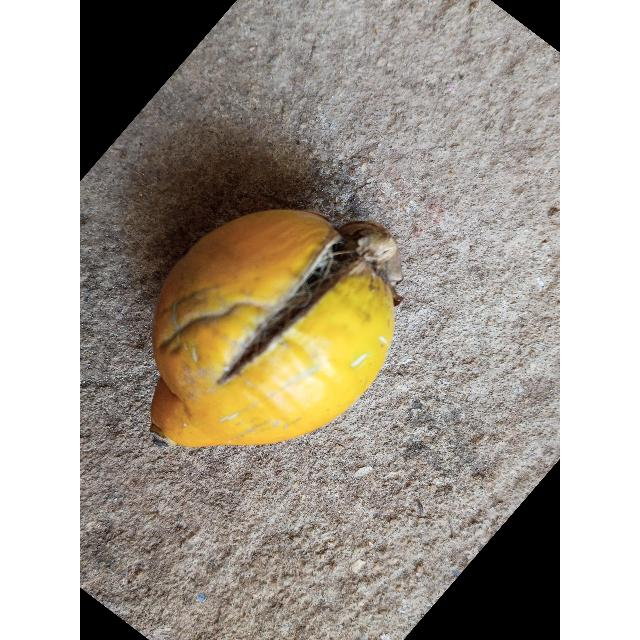damaged: (150, 210, 402, 447)
